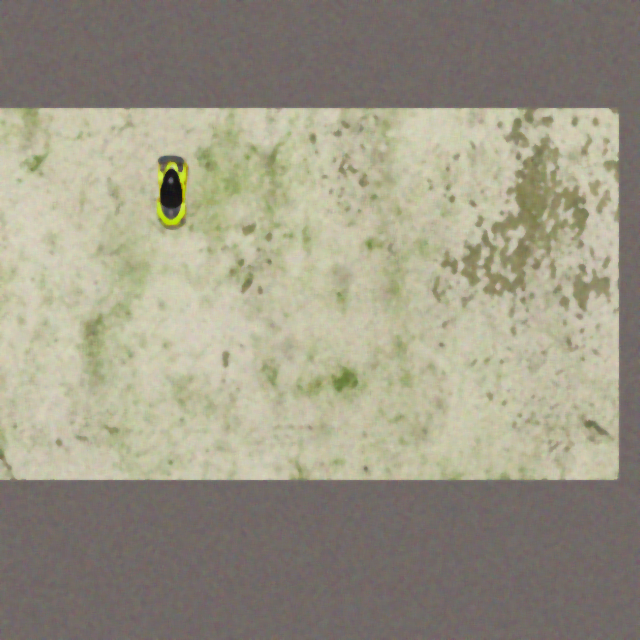car: (153, 154, 190, 227)
